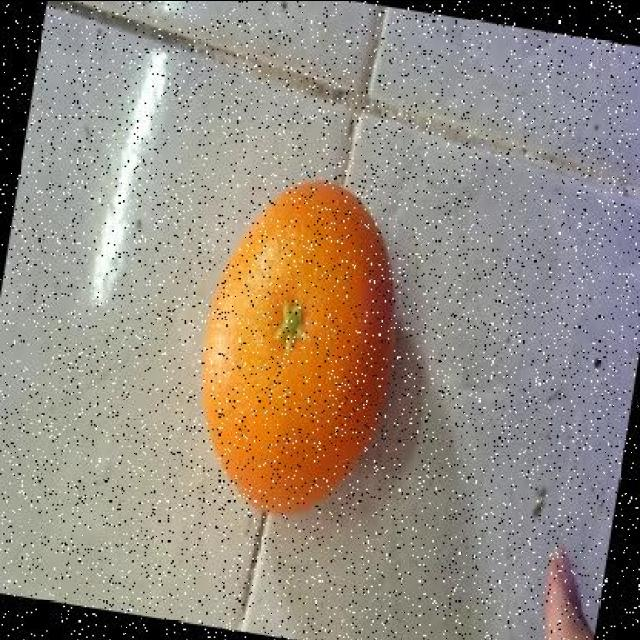Orange: (198, 178, 396, 516)
